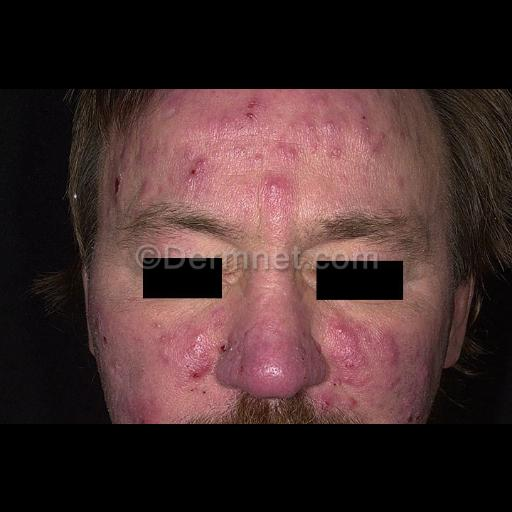Skin_Lesion: (331, 318, 363, 384), (184, 331, 246, 361), (176, 152, 210, 186), (238, 89, 262, 127), (362, 132, 390, 162), (389, 398, 423, 422), (206, 108, 234, 136), (310, 384, 334, 412), (103, 176, 125, 206), (263, 174, 289, 198), (277, 134, 299, 160), (184, 365, 208, 387), (384, 340, 404, 366), (316, 116, 344, 134), (155, 344, 177, 364), (137, 174, 155, 198), (422, 360, 438, 386), (390, 170, 408, 190), (327, 142, 345, 162), (292, 342, 312, 360), (135, 404, 151, 424), (389, 88, 407, 104), (251, 150, 267, 166), (385, 376, 399, 392), (368, 88, 388, 98), (234, 360, 248, 374), (347, 396, 359, 410), (99, 334, 111, 348), (316, 92, 326, 106), (358, 110, 370, 120)
